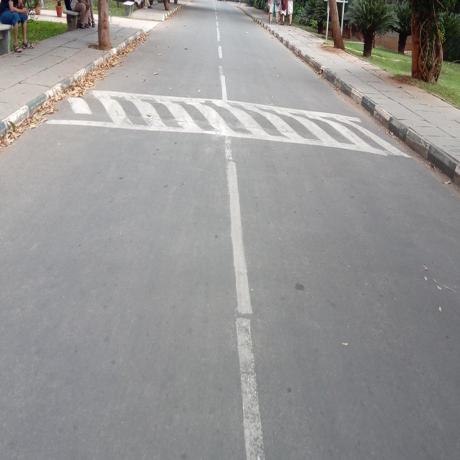Speed Bump: (76, 90, 375, 154)
